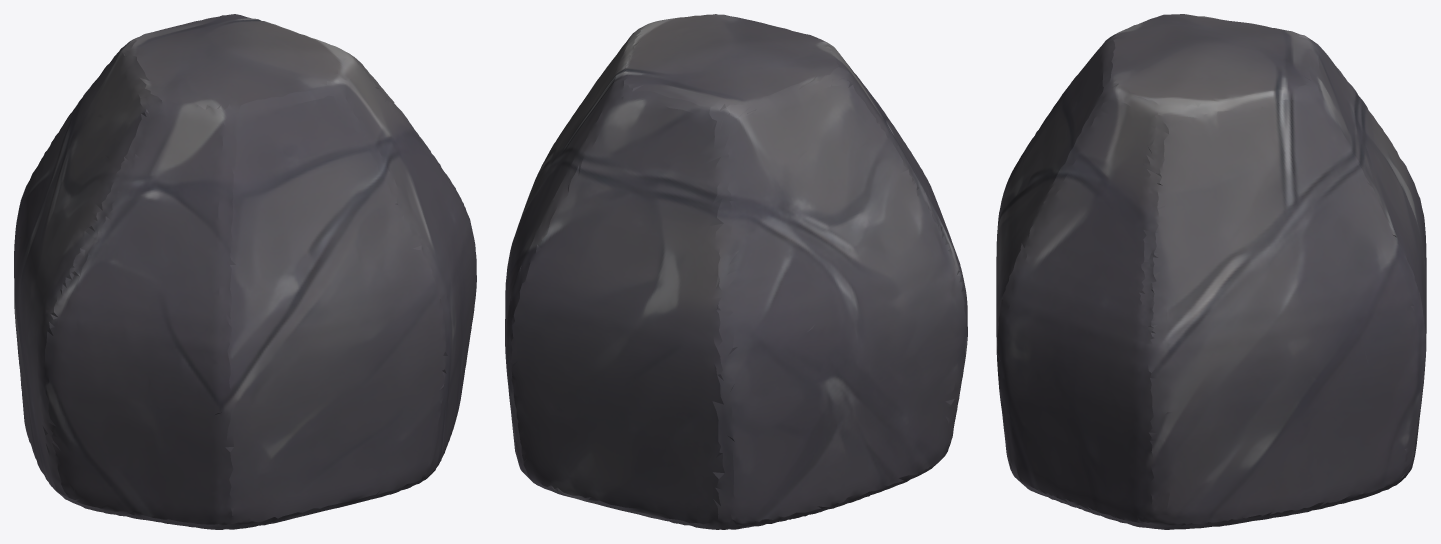
Rendered from ore_iron.glb.
3 views of the same model, side by side, from view 1: azimuth 30°, elevation 25°; view 2: azimuth 150°, elevation 25°; view 3: azimuth 270°, elevation 25° (orthographic).
Parts seen in each view (by area): view 1: ore_iron; view 2: ore_iron; view 3: ore_iron.
Part boxes in pixels (x1,y1,x2,y2): ore_iron: (14,14,476,529); ore_iron: (505,14,967,529); ore_iron: (996,14,1426,529).
Bounding box in the file's own units: 1 × 0.9094 × 0.8638.
Materials: 1 (1 with a texture image).
